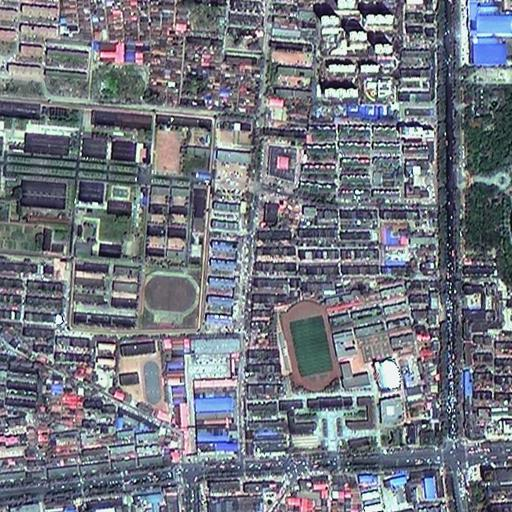school: (277, 285, 418, 397), (113, 335, 167, 413)
